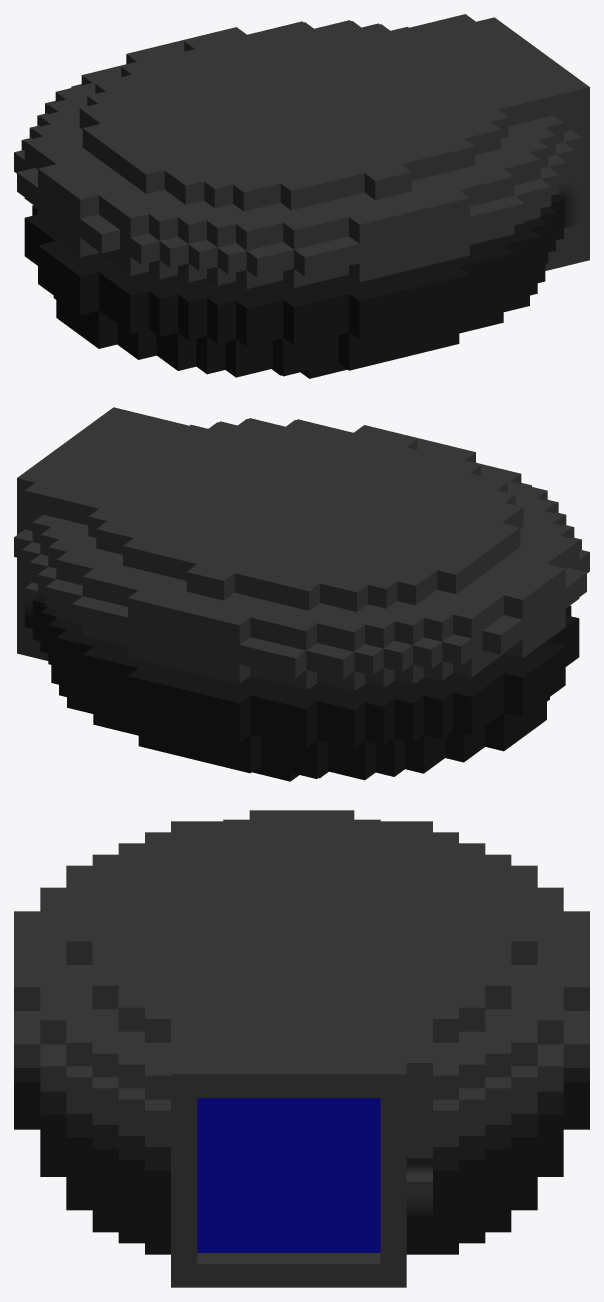
Rendered from TankBody.fbx.
The picture shows the model from 3 angles, top to bottom: view 1: azimuth 30°, elevation 25°; view 2: azimuth 150°, elevation 25°; view 3: azimuth 270°, elevation 25°; orthographic projection. The views are drawn at different scales.
Visible parts, largest first — view 1: Matrix; view 2: Matrix; view 3: Matrix.
Boxes of the visible parts, <box> form: Matrix: <box>14,14,589,378</box>; Matrix: <box>14,407,589,781</box>; Matrix: <box>14,810,589,1287</box>.
Size of the model in its own units: 26 by 10 by 22.
1 material, 1 textured.
